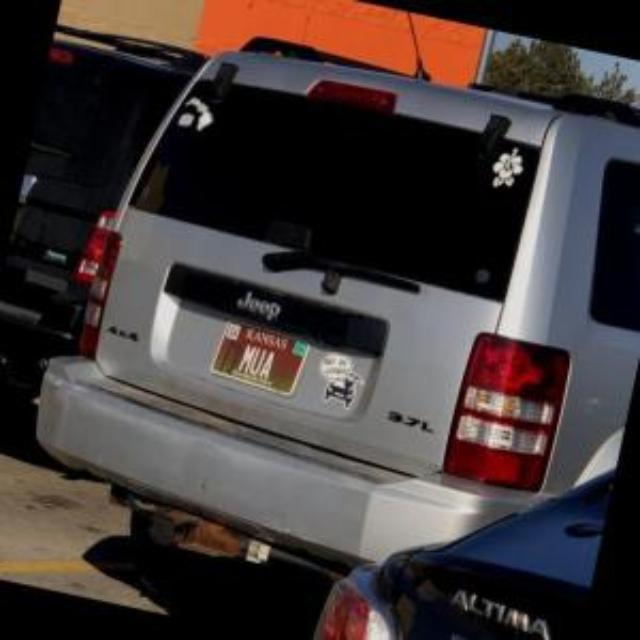License Plate: (207, 317, 312, 398)
